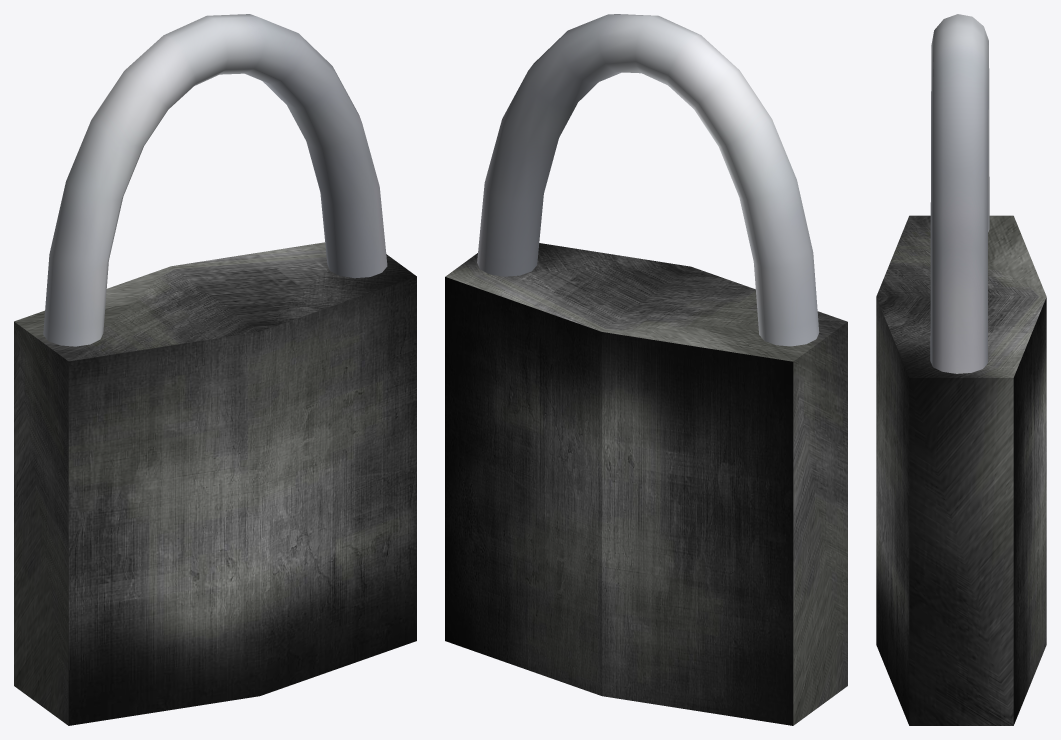
The model's file is padlock.fbx.
The picture shows the model from 3 angles, left to right: view 1: azimuth 30°, elevation 25°; view 2: azimuth 150°, elevation 25°; view 3: azimuth 270°, elevation 25°; orthographic projection. The views are drawn at different scales.
Parts seen in each view (by area): view 1: PadLock; view 2: PadLock; view 3: PadLock.
Part boxes in pixels (x1=…): PadLock: x1=14, y1=14, x2=416, y2=725; PadLock: x1=445, y1=14, x2=847, y2=725; PadLock: x1=876, y1=14, x2=1046, y2=725.
Bounding box in the file's own units: 200 × 363 × 88.75.
